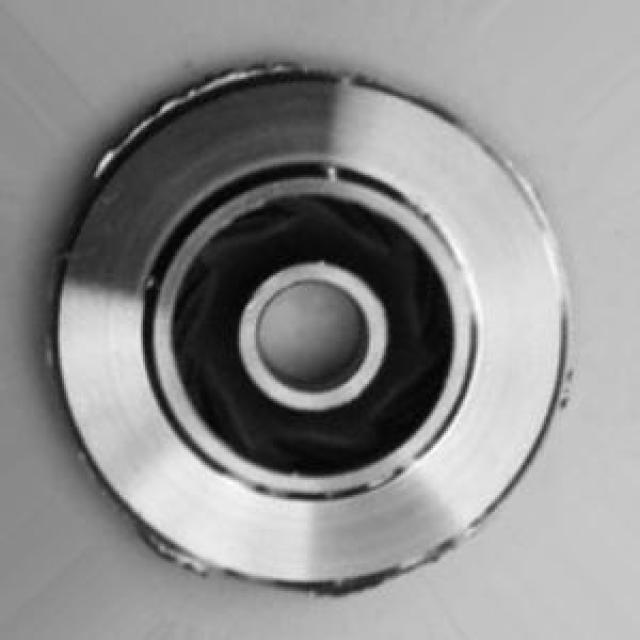Defect: (191, 62, 244, 90)
